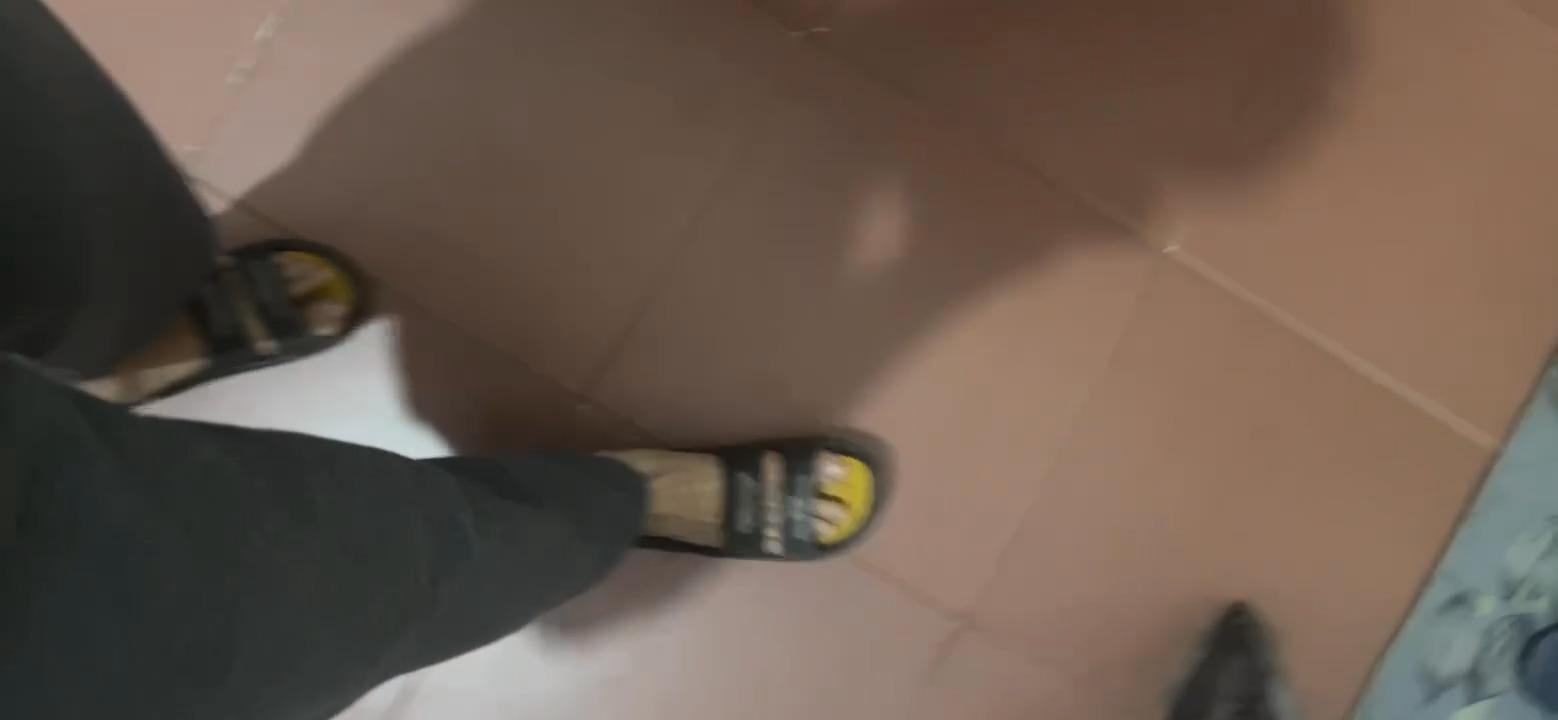no-boot: (589, 415, 867, 588), (101, 257, 353, 400)
